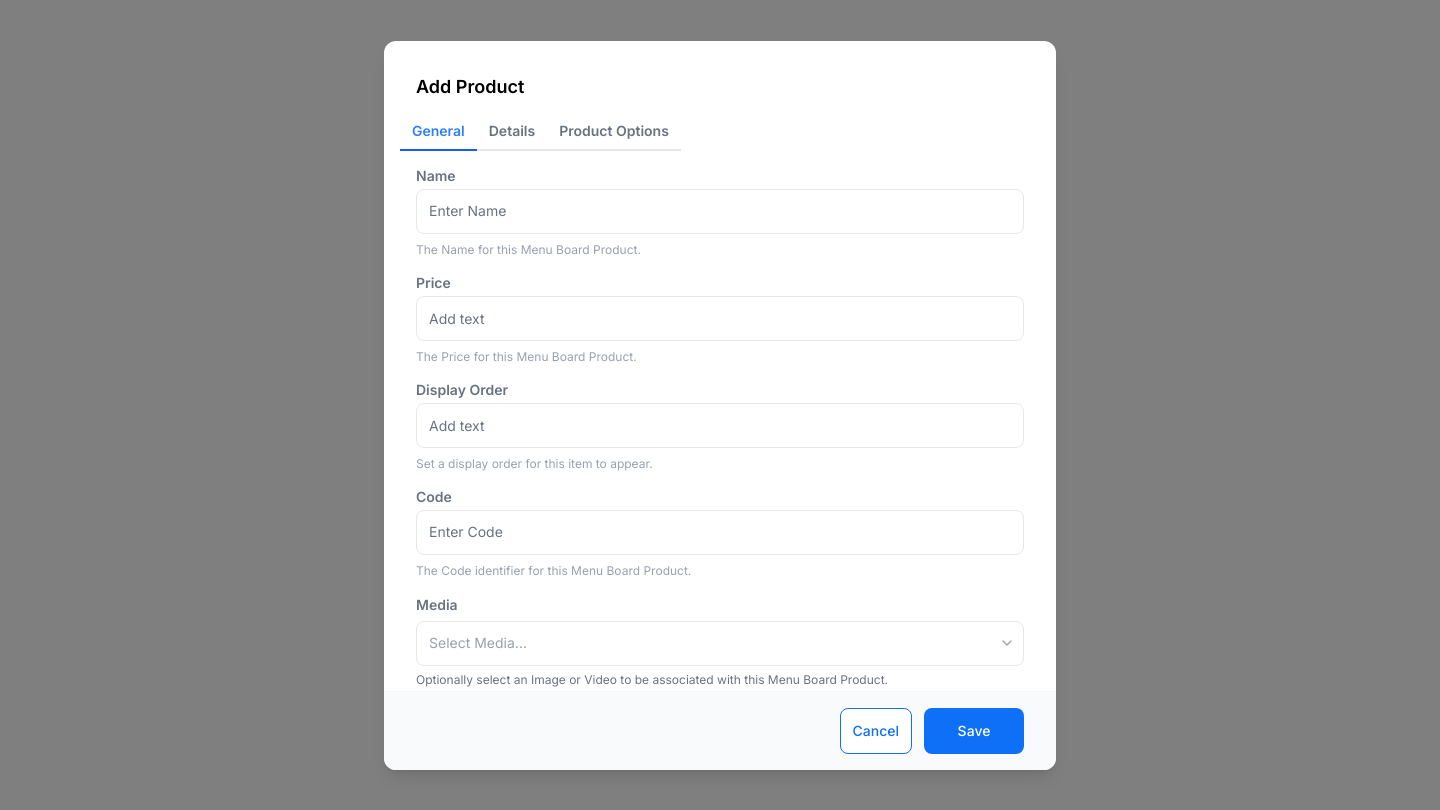
Test: AddAndEditMenuBoardProductModal › Add mode — General tab › auto-switches to General tab when a name validation error occurs on Details tab
The width and height of the screenshot is (1440, 810).
# Switch to Details tab without filling name
Click the button "Details" at (512, 132), box [477,112,547,150]
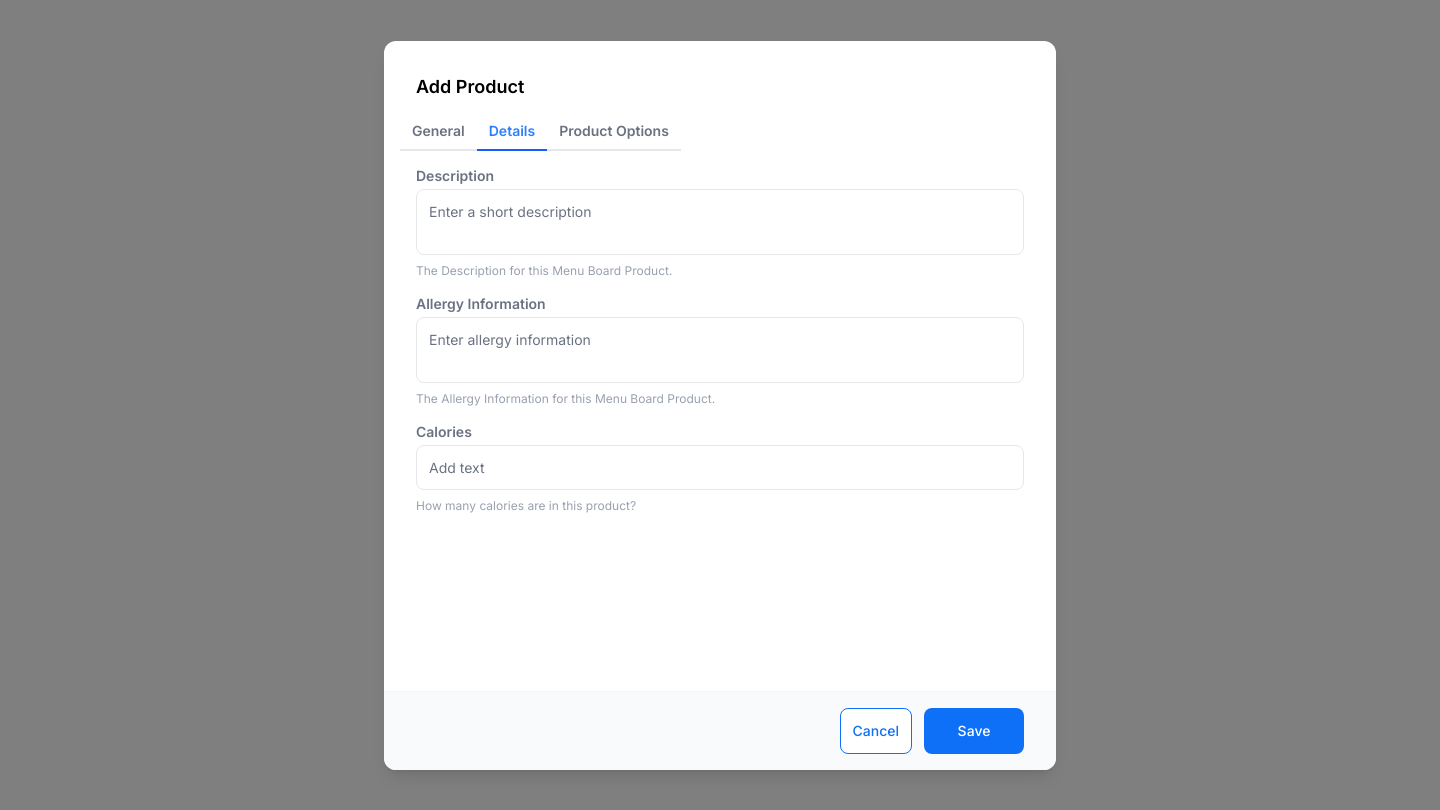
Click the button "Save" at (974, 730), box [924,708,1024,754]
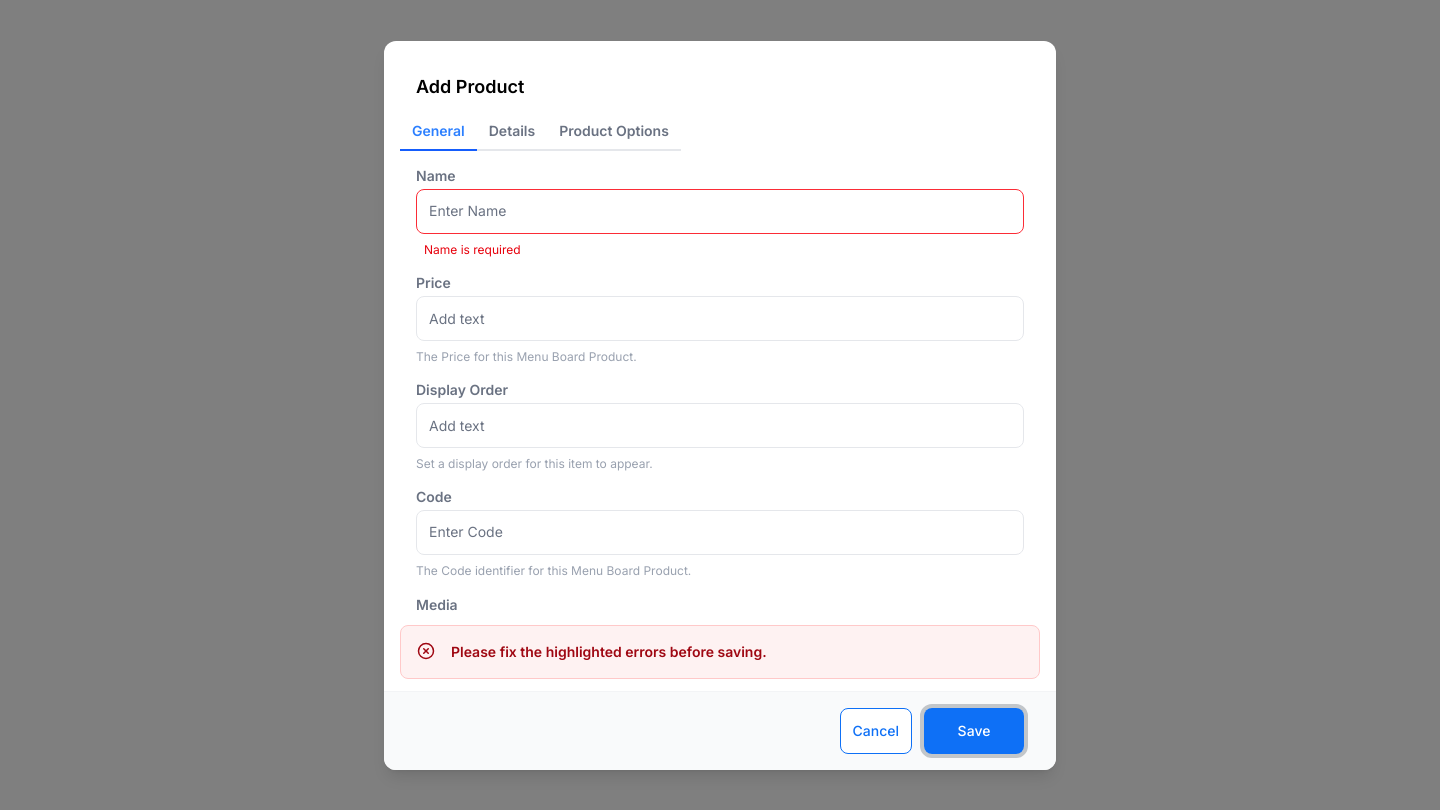
Result: the text "Name is required" is shown at [424,242,521,256]
Result: the field labelled "Name" is shown at [417,190,1023,232]
